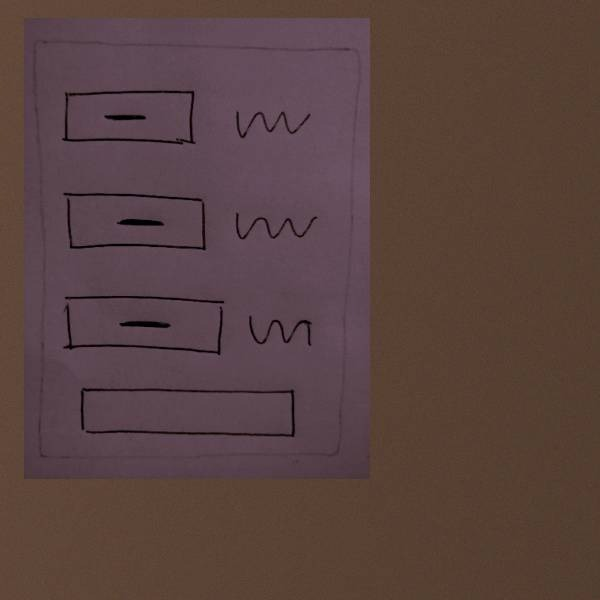button: (60, 292, 230, 364), (59, 189, 211, 260), (57, 87, 206, 154)
text: (227, 209, 320, 247), (228, 106, 313, 142), (243, 312, 319, 351)
text_input: (72, 381, 302, 445)
